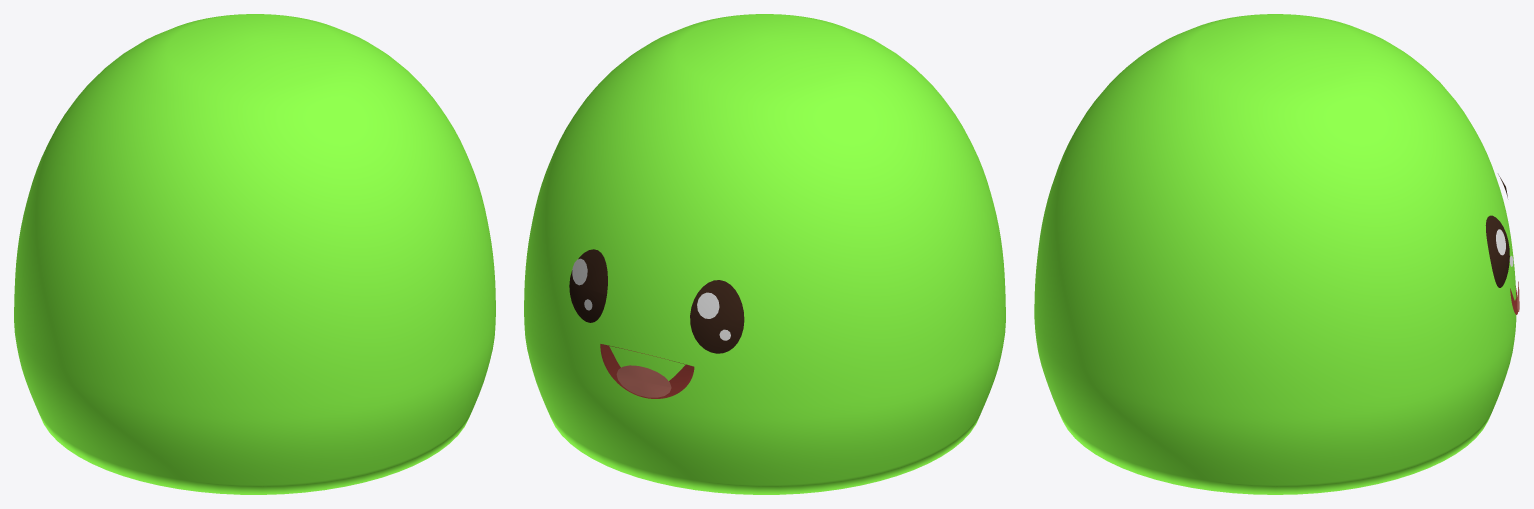
Rendered from MONSTER_GREENSLIME.glb.
3 renders of one model, left to right at view 1: azimuth 30°, elevation 25°; view 2: azimuth 150°, elevation 25°; view 3: azimuth 270°, elevation 25°, orthographic.
Parts seen in each view (by area): view 1: jelly; view 2: jelly, face_eyes, face_tongue, face_mouth, face_highlights; view 3: jelly, face_eyes.
Boxes of the visible parts, left/top/right/bottom form: jelly: left=14, top=14, right=495, bottom=494; jelly: left=524, top=14, right=1005, bottom=494; face_eyes: left=569, top=249, right=744, bottom=353; face_tongue: left=616, top=365, right=671, bottom=397; face_mouth: left=600, top=344, right=694, bottom=398; face_highlights: left=572, top=258, right=730, bottom=340; jelly: left=1034, top=14, right=1516, bottom=494; face_eyes: left=1485, top=174, right=1509, bottom=287.
Bounding box in the file's own units: 3 × 2.5 × 3.02.
